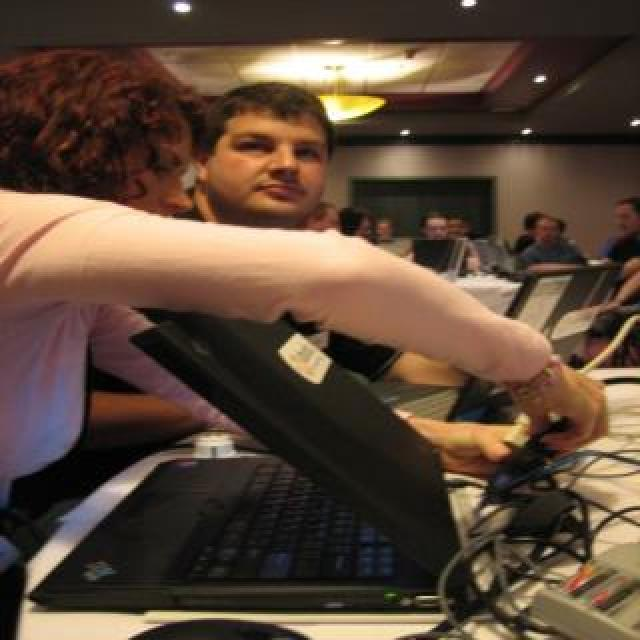laptop_computer: (61, 306, 475, 616)
